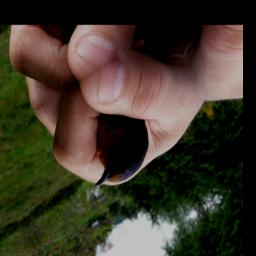Swallow: (68, 93, 164, 199)
